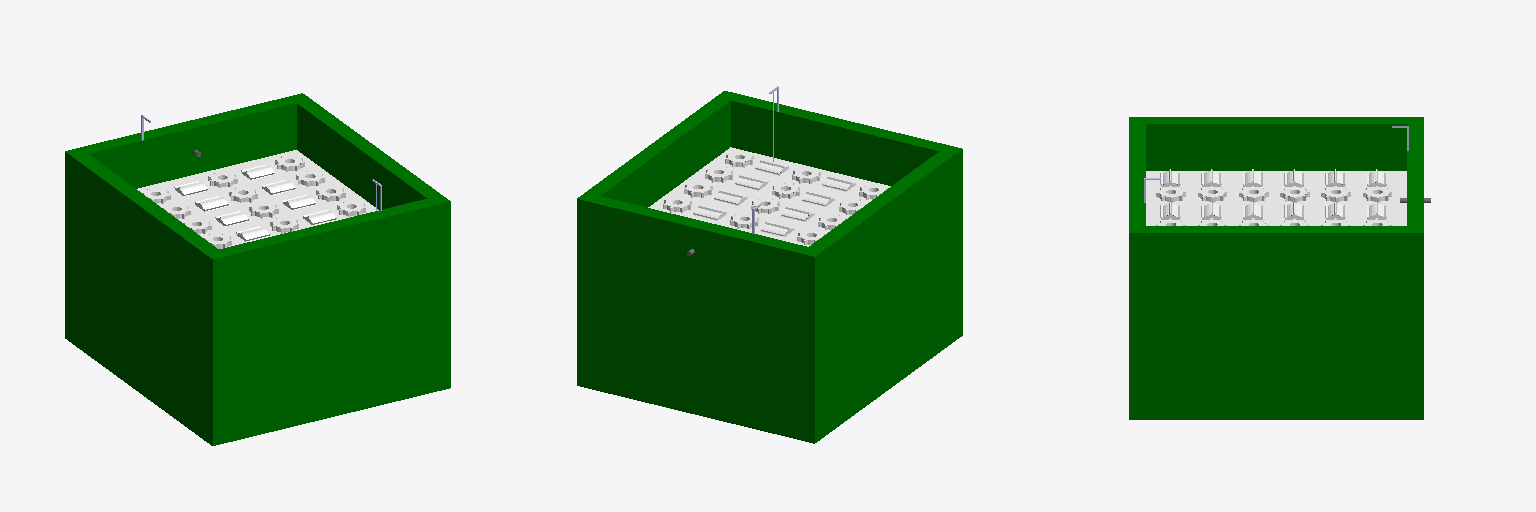
Rendered from MBBR-chi.obj.
3 views of the same model, side by side, from view 1: azimuth 30°, elevation 25°; view 2: azimuth 150°, elevation 25°; view 3: azimuth 270°, elevation 25° (orthographic).
Parts seen in each view (by area): view 1: NONE_DC_Brep; view 2: NONE_DC_Brep; view 3: NONE_DC_Brep.
Part boxes in pixels (x1,y1,x2,y2): NONE_DC_Brep: (65,93,450,445); NONE_DC_Brep: (577,86,962,443); NONE_DC_Brep: (1129,117,1430,419).
Size of the model in its own units: 8000 by 6800 by 8800.